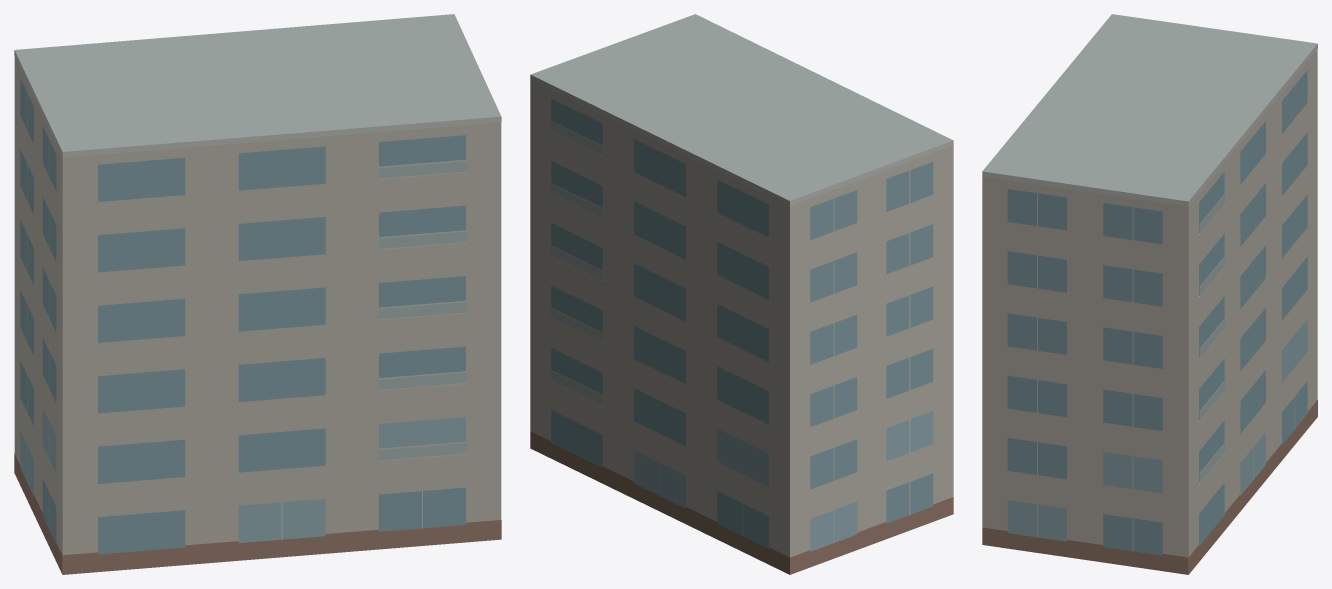
File: survey-upis-32880201.glb
The picture shows the model from 3 angles, left to right: view 1: azimuth 30°, elevation 25°; view 2: azimuth 150°, elevation 25°; view 3: azimuth 270°, elevation 25°; orthographic projection. The views are drawn at different scales.
Parts seen in each view (by area): view 1: survey-upis-32880201.tmp; view 2: survey-upis-32880201.tmp; view 3: survey-upis-32880201.tmp.
Part boxes in pixels (x1,y1,x2,y2): survey-upis-32880201.tmp: (14,14,501,574); survey-upis-32880201.tmp: (530,14,953,574); survey-upis-32880201.tmp: (982,14,1317,574).
Bounding box in the file's own units: 19.72 × 18.3 × 14.92.
